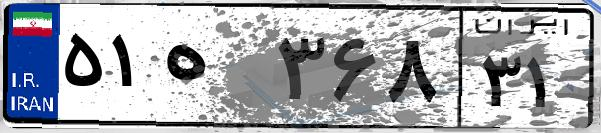1: (525, 38, 570, 115), (110, 28, 158, 98)
3: (270, 28, 330, 110), (475, 38, 525, 113)
5: (57, 26, 110, 100)
6: (330, 28, 385, 110)
8: (385, 28, 445, 110)
ه: (158, 20, 270, 120)
